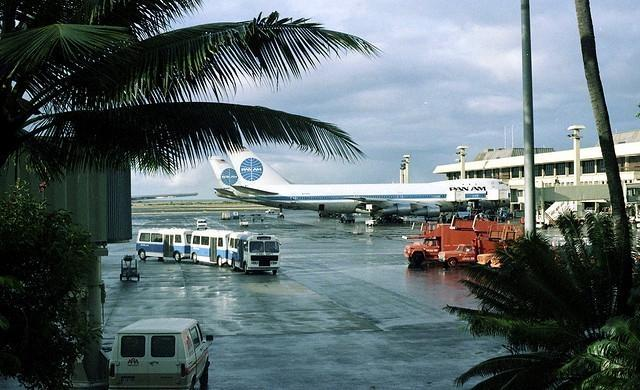bus: (225, 230, 285, 278), (135, 228, 194, 263), (190, 229, 233, 268)
car: (117, 315, 213, 384), (198, 219, 208, 230)
truck: (438, 224, 524, 268), (404, 226, 476, 266), (426, 218, 522, 238)
